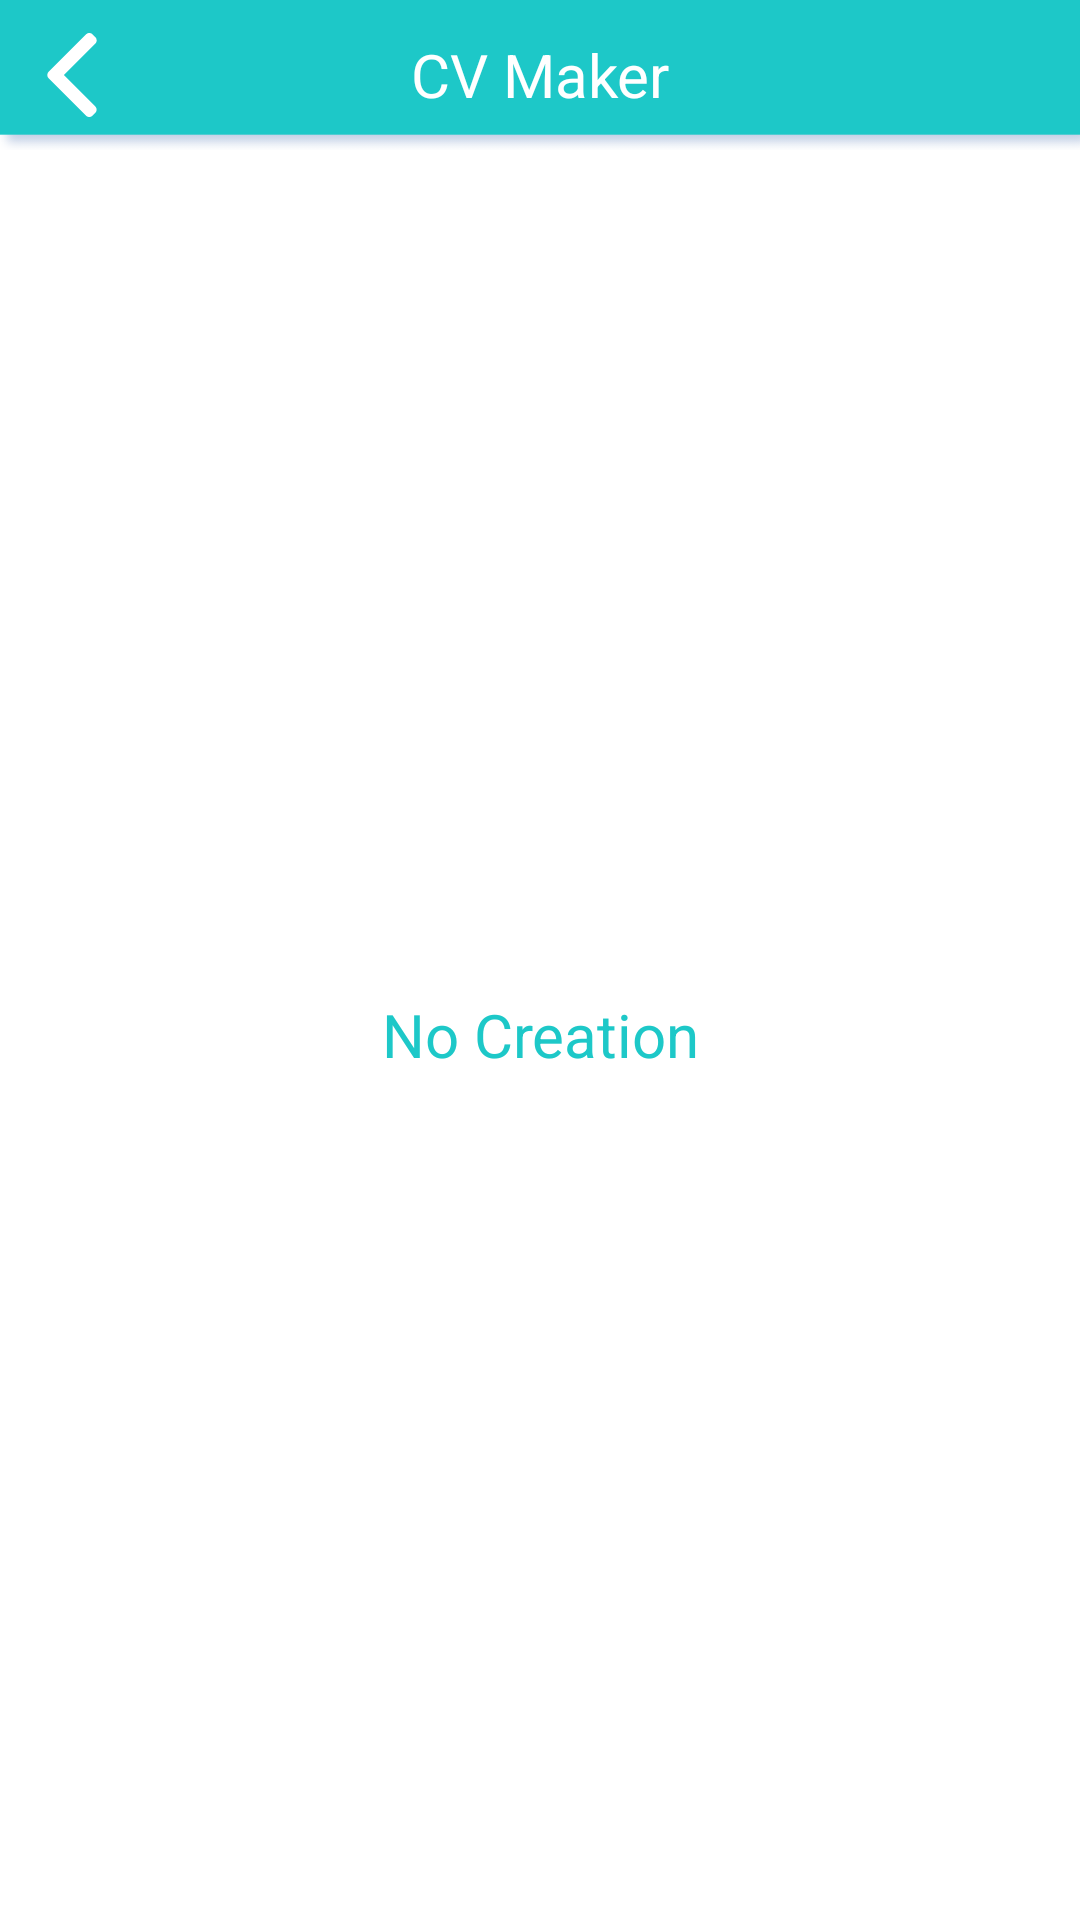

Icon bounding boxes for this 1080*1920 phone screenshot, format {"x1": x1, "y1": y1, "x2": x2, "y2": y2}:
back: {"x1": 47, "y1": 33, "x2": 97, "y2": 117}
